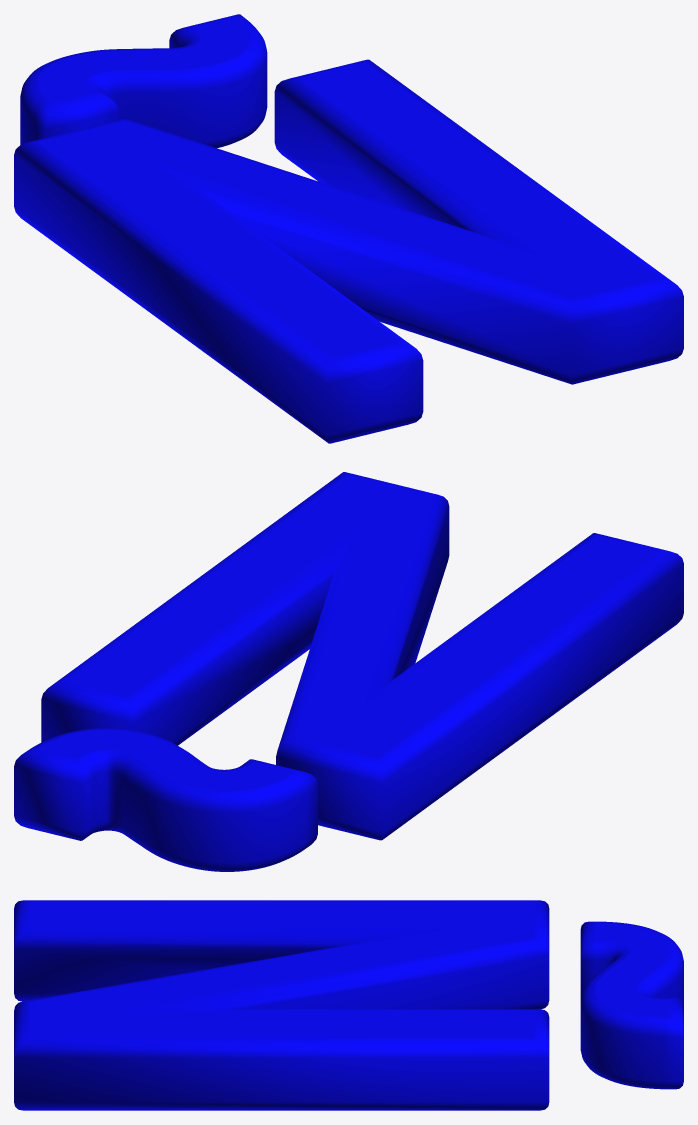
The picture shows the model from 3 angles, top to bottom: view 1: azimuth 30°, elevation 25°; view 2: azimuth 150°, elevation 25°; view 3: azimuth 270°, elevation 25°; orthographic projection. The views are drawn at different scales.
Parts seen in each view (by area): view 1: 209; view 2: 209; view 3: 209.
Boxes of the visible parts, x1,y1,x2,y2 form: 209: [14, 14, 683, 443]; 209: [14, 472, 683, 871]; 209: [14, 900, 683, 1110].
Bounding box in the file's own units: 0.7248 × 0.16 × 1.38.
